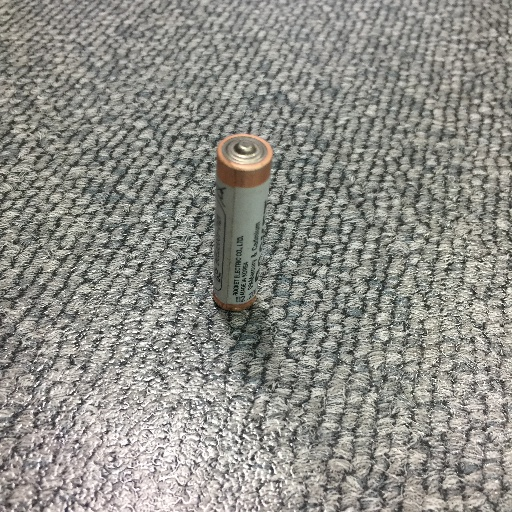Battery_0: (208, 126, 280, 321)
